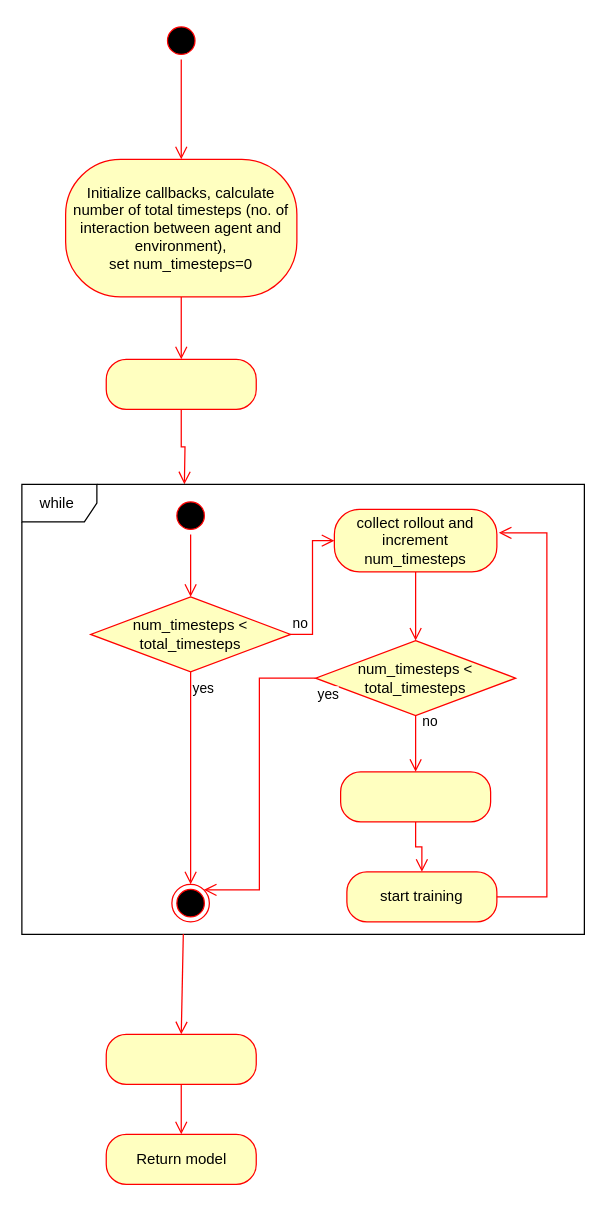
Image size: 606x1206. Some labels were removed from this diagram. Each missing label, with the centre of its shape:
log current stats from training process: the point at 415,796
run callback on_start_training: the point at 180,383
run callback on_training_end: the point at 180,1058
